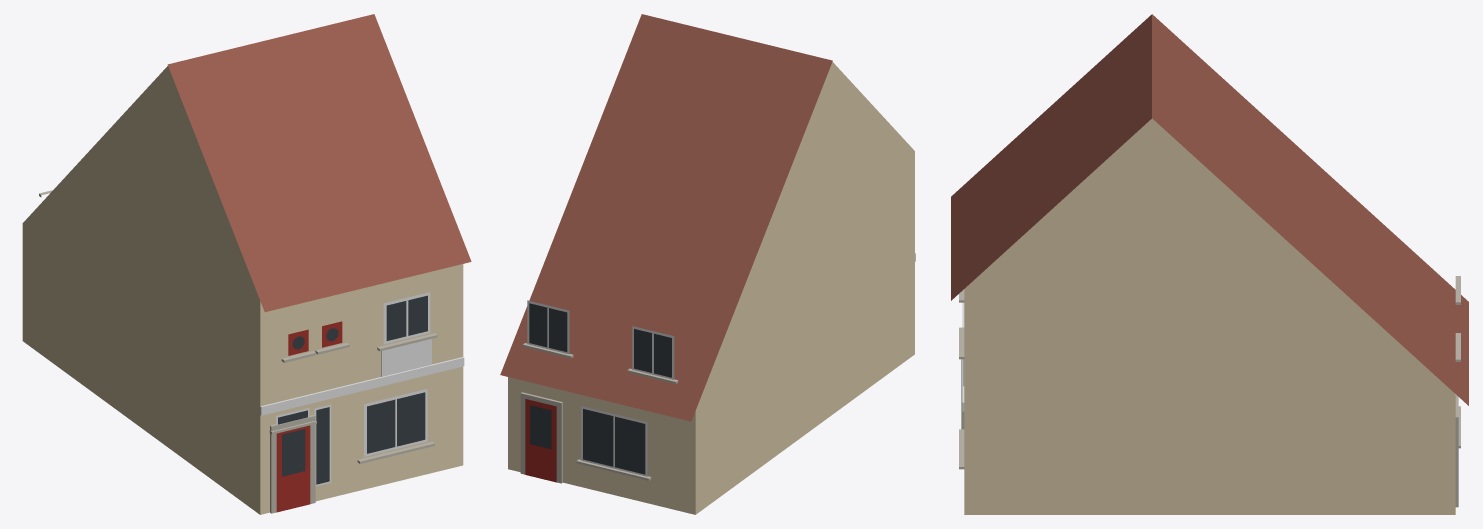
File: nw-ma-porthole__cream__2__gable__long__solid.glb
The picture shows the model from 3 angles, left to right: view 1: azimuth 30°, elevation 25°; view 2: azimuth 150°, elevation 25°; view 3: azimuth 270°, elevation 25°; orthographic projection. The views are drawn at different scales.
Visible parts, largest first — view 1: nw-ma-porthole__cream__2__gable__long__solid; view 2: nw-ma-porthole__cream__2__gable__long__solid; view 3: nw-ma-porthole__cream__2__gable__long__solid.
Boxes of the visible parts, left/top/right/bottom form: nw-ma-porthole__cream__2__gable__long__solid: left=22, top=14, right=471, bottom=514; nw-ma-porthole__cream__2__gable__long__solid: left=500, top=14, right=915, bottom=514; nw-ma-porthole__cream__2__gable__long__solid: left=951, top=14, right=1468, bottom=514.
Bounding box in the file's own units: 5.52 × 9.81 × 11.58.
